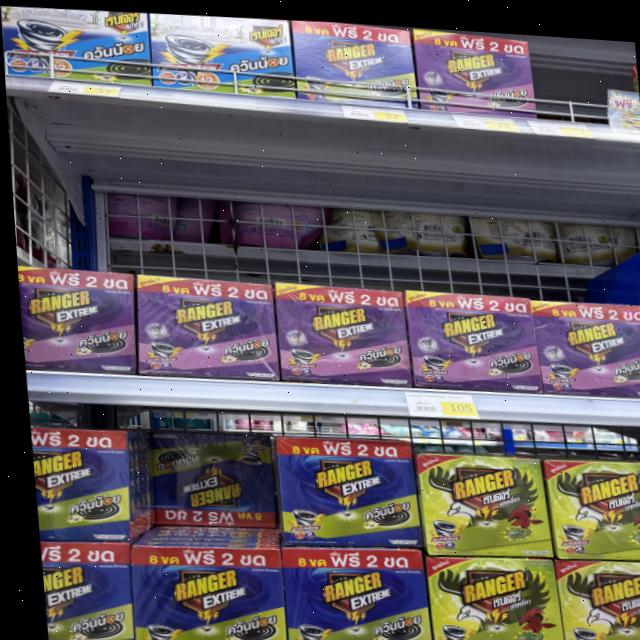empty_shelf: (16, 107, 640, 301), (140, 430, 278, 548), (531, 43, 640, 128)
